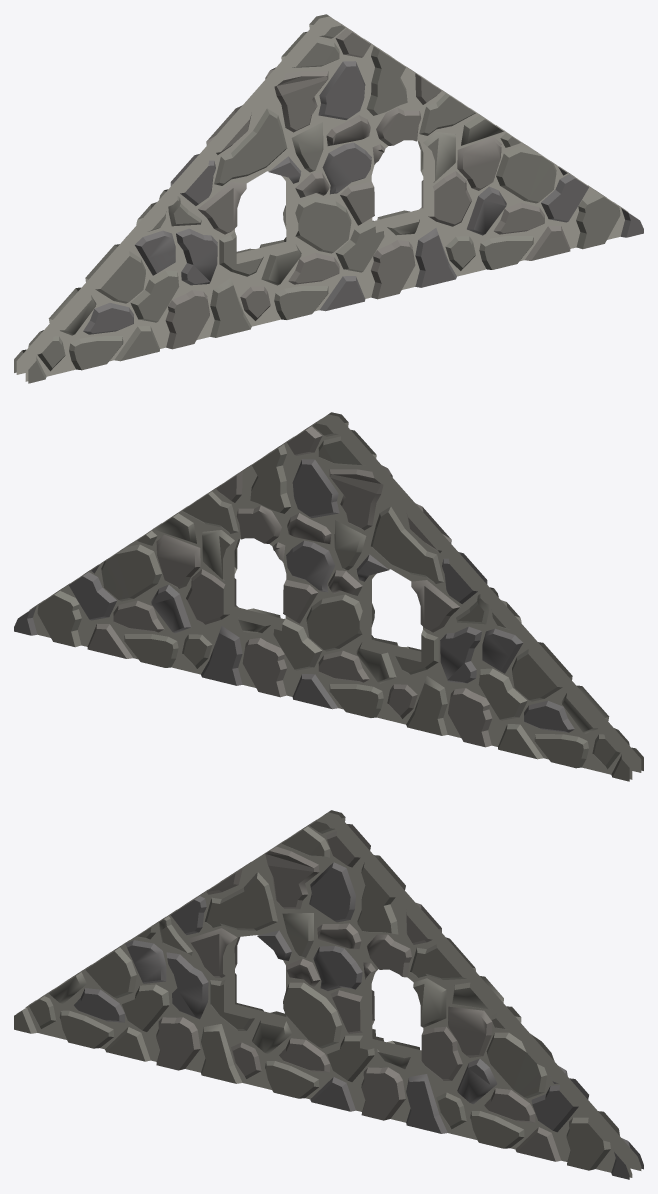
Rendered from rpgpp_ag_roof_end_01_9x4_wall_window_04c.fbx.
The picture shows the model from 3 angles, top to bottom: view 1: azimuth 30°, elevation 25°; view 2: azimuth 150°, elevation 25°; view 3: azimuth 330°, elevation 25°; orthographic projection.
Parts seen in each view (by area): view 1: rpgpp_ag_roof_end_01_9x4_wall_window_04c; view 2: rpgpp_ag_roof_end_01_9x4_wall_window_04c; view 3: rpgpp_ag_roof_end_01_9x4_wall_window_04c.
Part boxes in pixels (box(x1,y1,x2,y2)): rpgpp_ag_roof_end_01_9x4_wall_window_04c: box(14, 14, 643, 383); rpgpp_ag_roof_end_01_9x4_wall_window_04c: box(14, 412, 643, 781); rpgpp_ag_roof_end_01_9x4_wall_window_04c: box(14, 810, 643, 1179).
Size of the model in its own units: 9 by 3.95 by 0.404.
